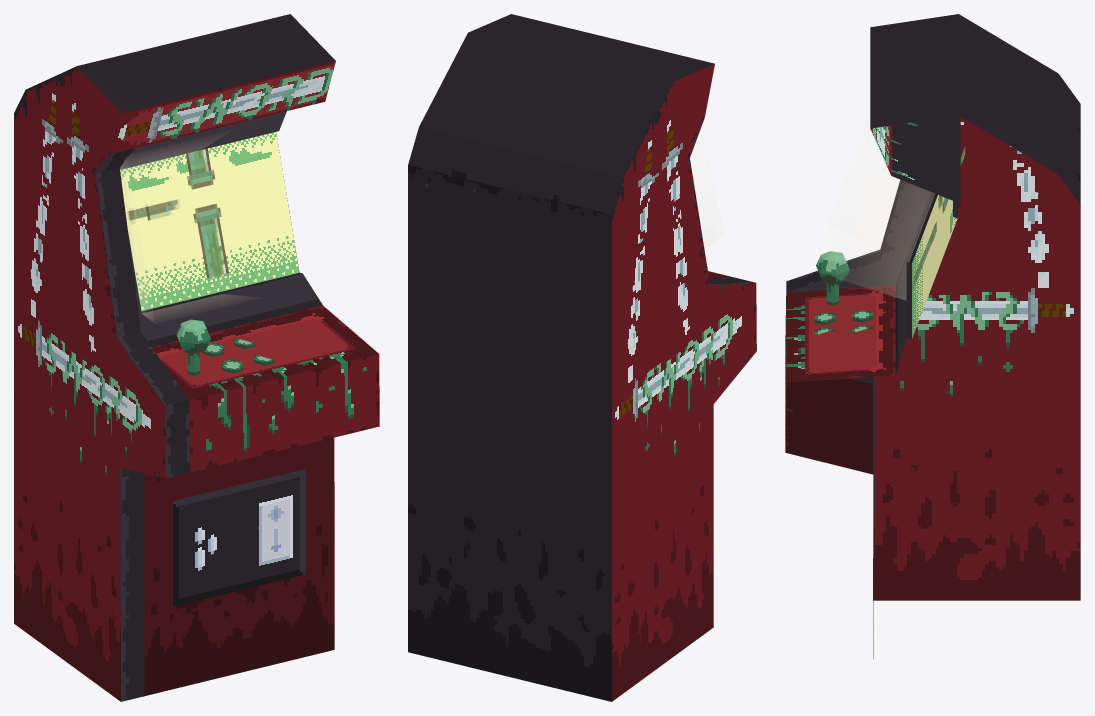
File: arcade-machine---pixel-art-low-poly-2e95a4.glb
The picture shows the model from 3 angles, left to right: view 1: azimuth 30°, elevation 25°; view 2: azimuth 150°, elevation 25°; view 3: azimuth 270°, elevation 25°; orthographic projection. The views are drawn at different scales.
Parts seen in each view (by area): view 1: PropMesh; view 2: PropMesh; view 3: PropMesh.
Part boxes in pixels (x1,y1,x2,y2): PropMesh: (14, 14, 379, 701); PropMesh: (408, 14, 756, 701); PropMesh: (785, 14, 1080, 658).
Size of the model in its own units: 0.7098 by 1.92 by 0.875.
Materials: 3 (3 with a texture image).
